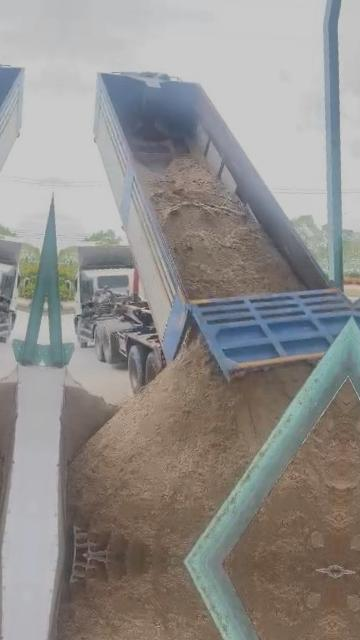sand: (68, 321, 311, 559), (144, 157, 304, 298), (228, 387, 347, 569), (63, 384, 116, 460)
